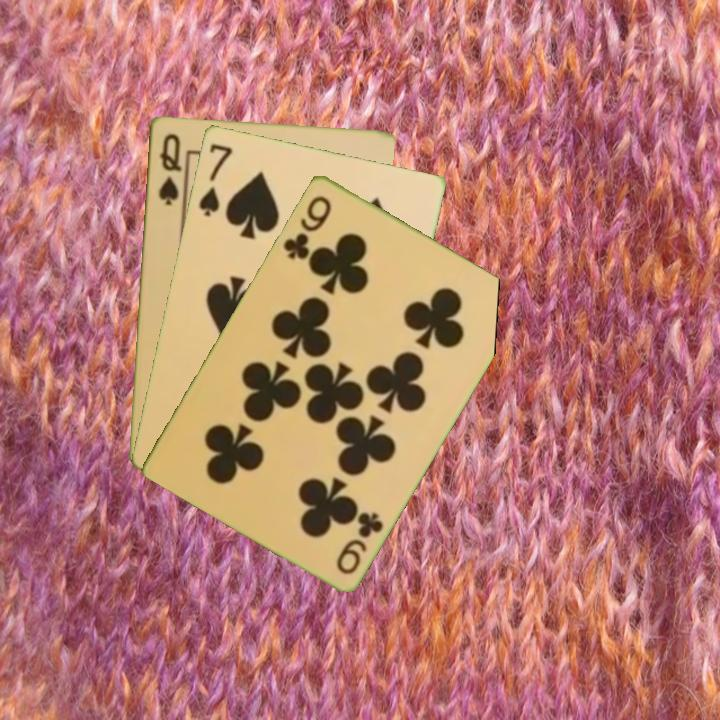7s: (195, 139, 236, 219)
9c: (279, 191, 335, 263), (332, 507, 387, 577)
Qs: (154, 129, 183, 208)
